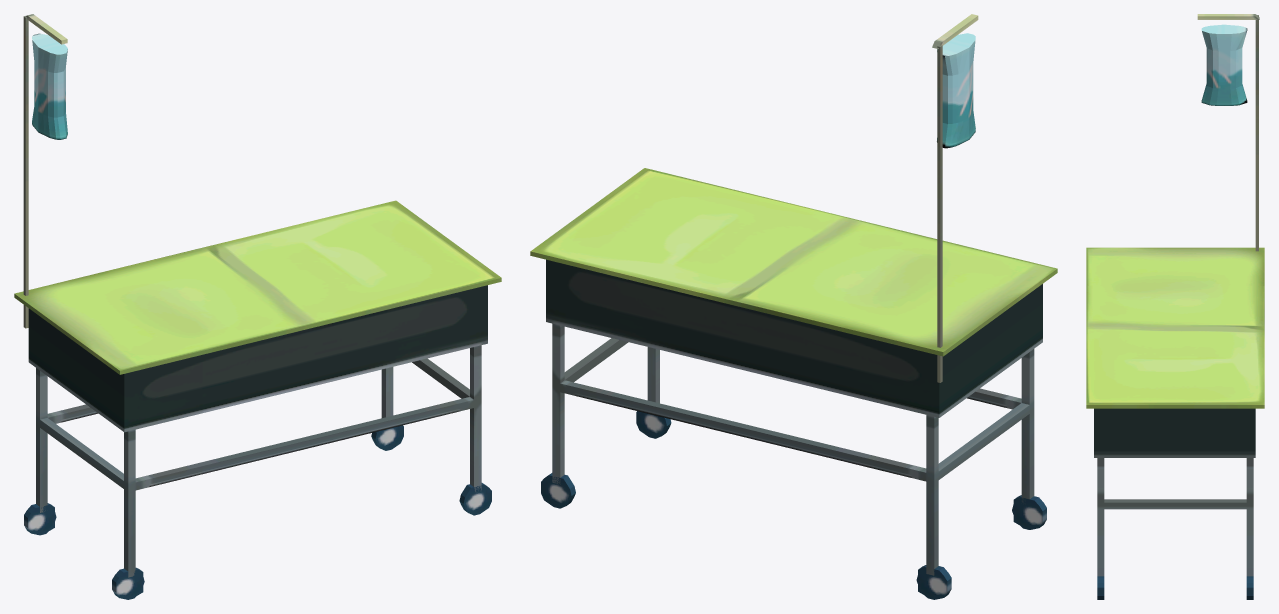
File: Bed.glb
3 views of the same model, side by side, from view 1: azimuth 30°, elevation 25°; view 2: azimuth 150°, elevation 25°; view 3: azimuth 270°, elevation 25° (orthographic). The views are drawn at different scales.
Visible parts, largest first — view 1: Bed; view 2: Bed; view 3: Bed.
Part boxes in pixels (bbox=[...]): Bed: bbox=[14, 14, 501, 599]; Bed: bbox=[530, 14, 1057, 599]; Bed: bbox=[1086, 14, 1264, 599].
Size of the model in its own units: 309 by 400 by 148.
1 material, 1 textured.
